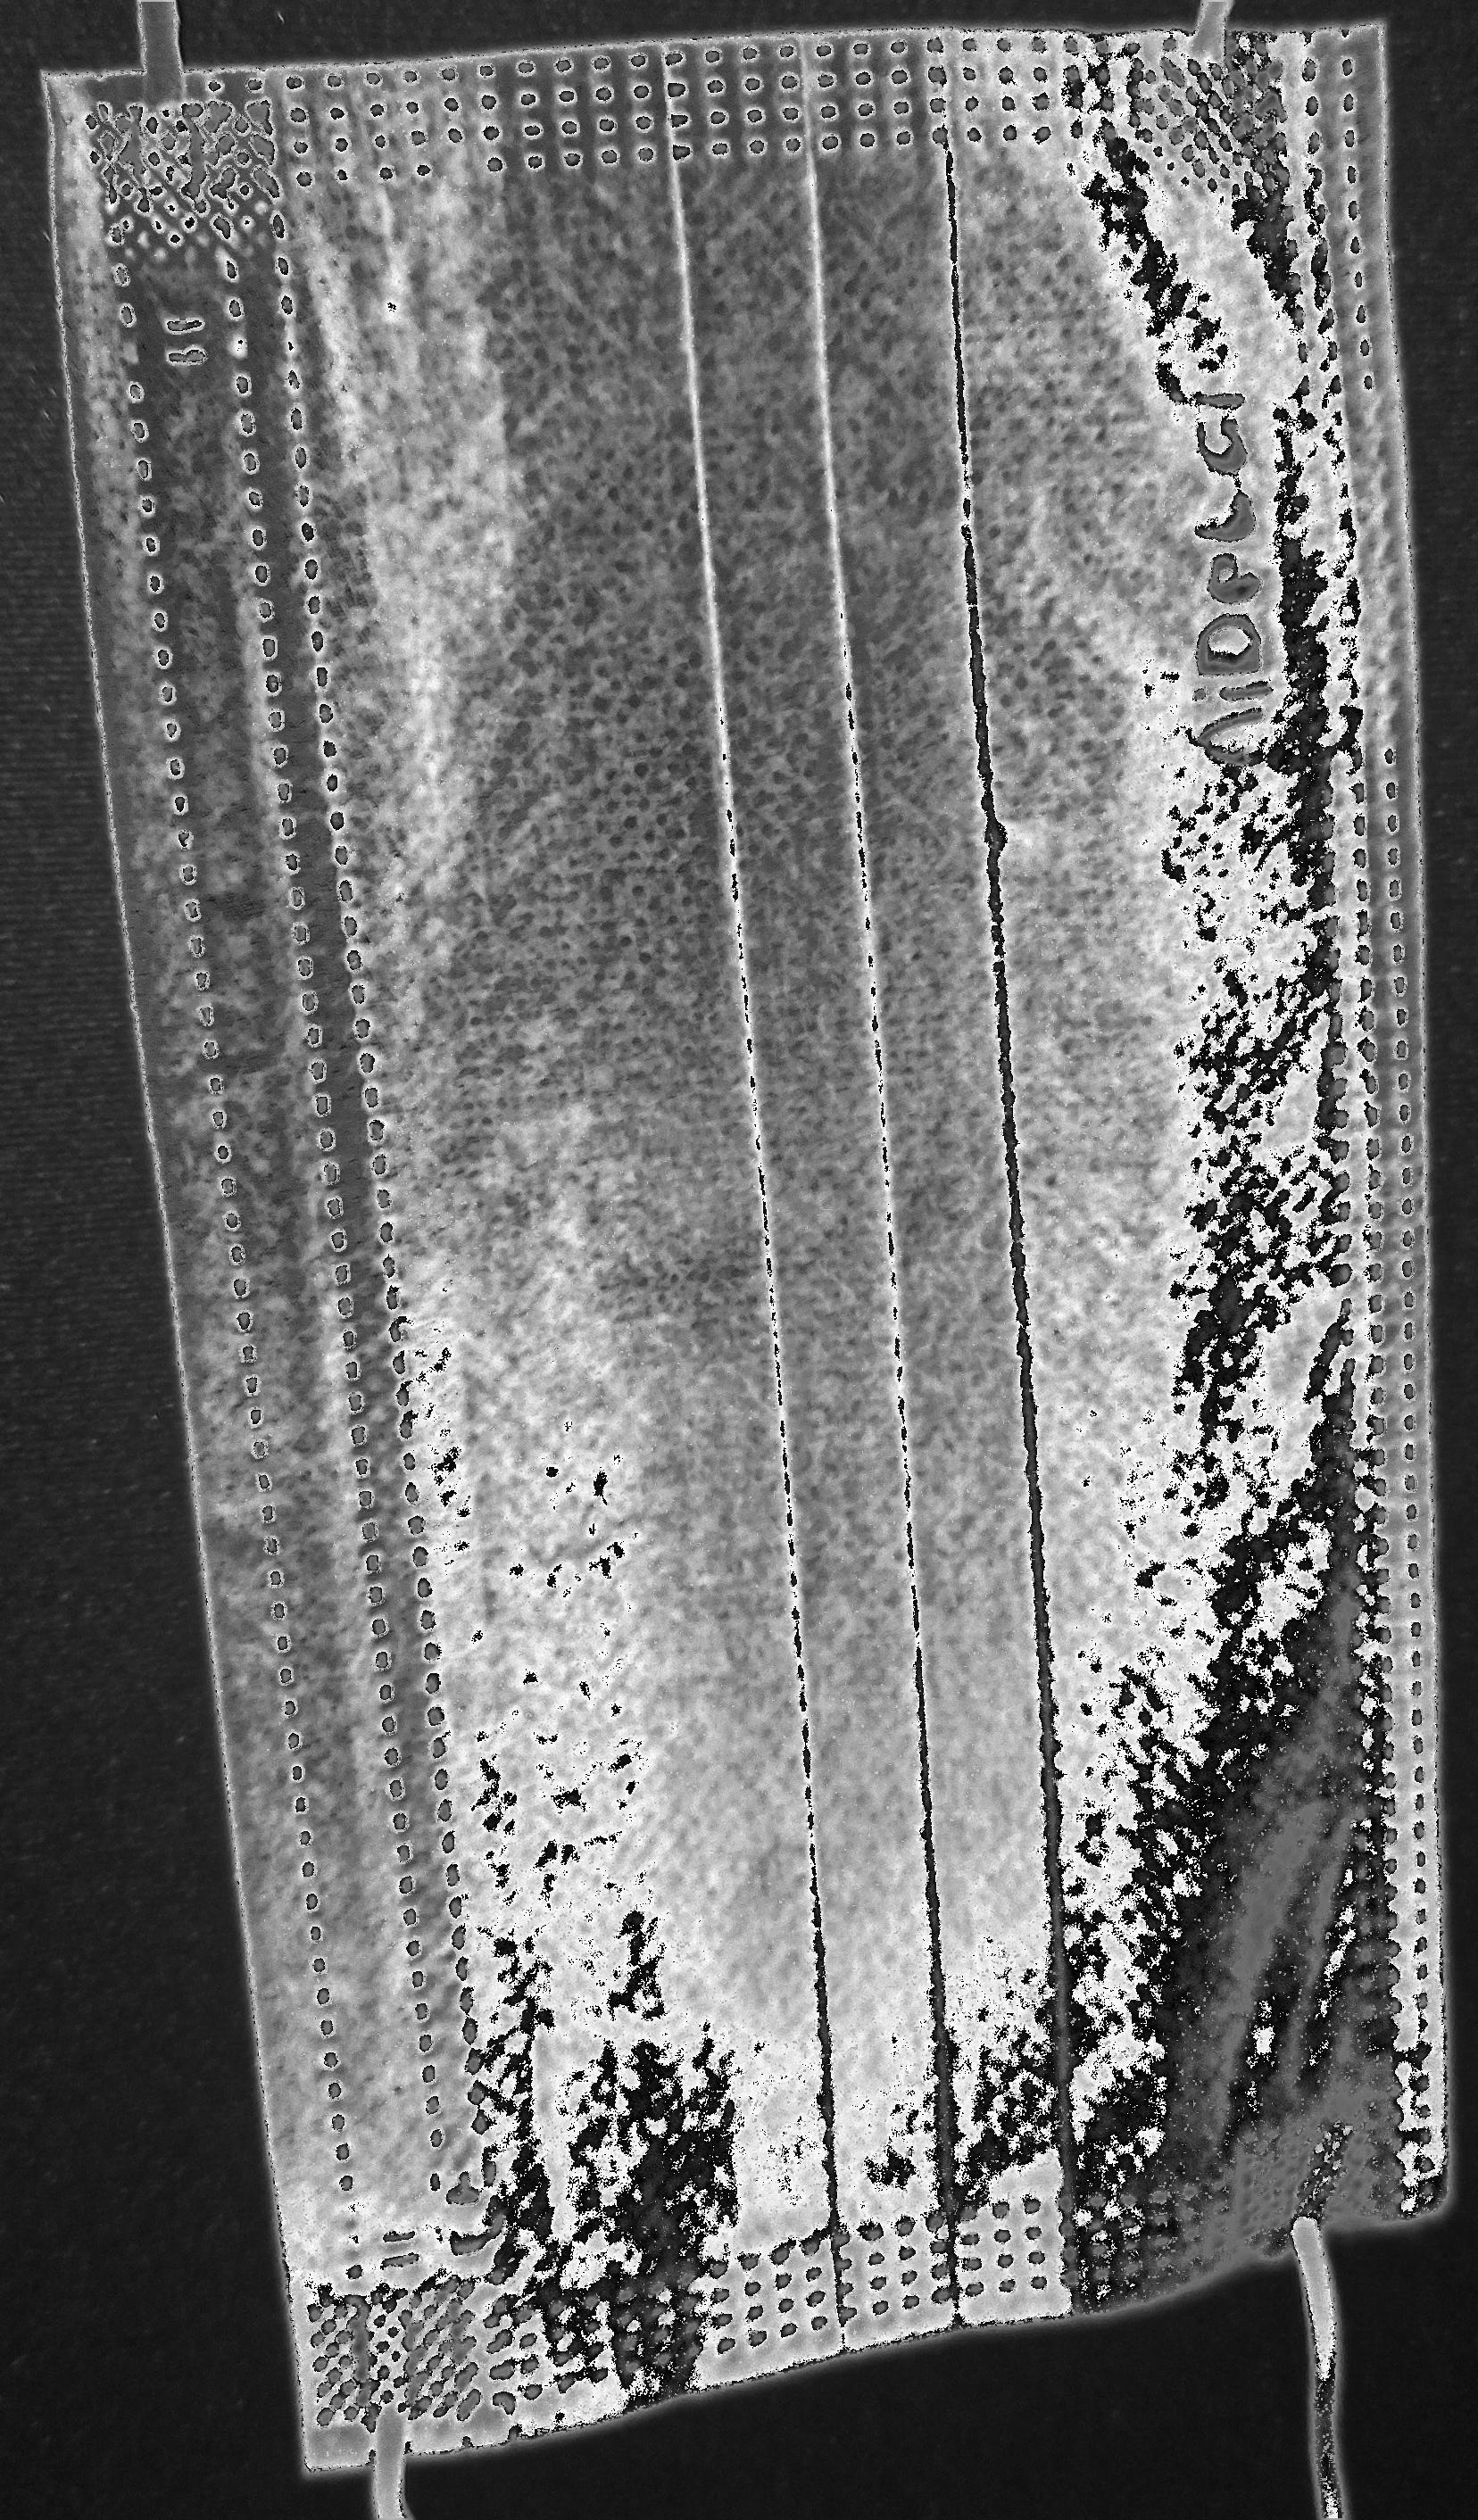Low GSM: (357, 267, 1346, 2096)
